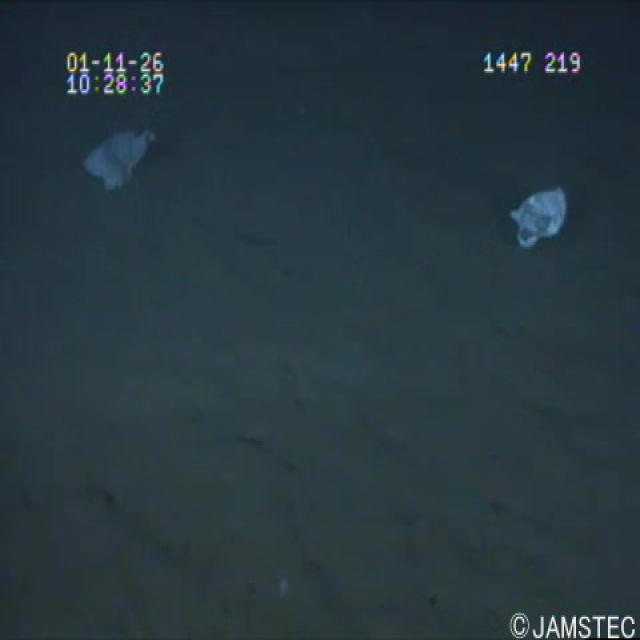plastic: (71, 117, 165, 199), (501, 175, 579, 262)
